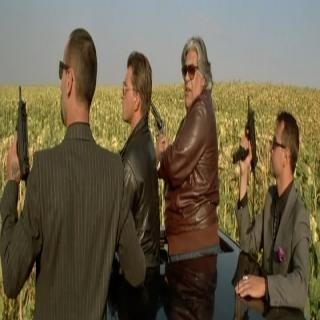gun: (4, 81, 36, 193), (230, 97, 264, 190), (149, 84, 173, 155)
